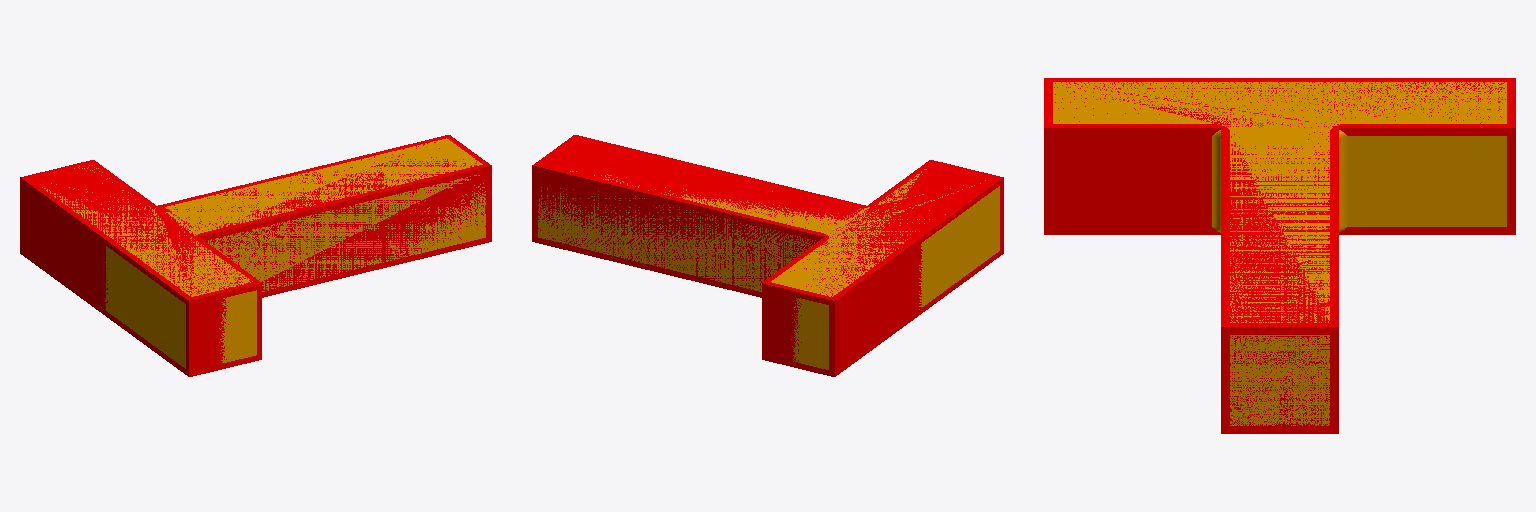
The robot description file, URDF, robot "t_shape":
<?xml version="1.0"?>
<!-- A test file to ensure the obj is at the right scale. -->
<robot name="t_shape">
  <link name="t_obj">
    <visual>
      <geometry>
        <mesh filename="push_t_bicolor.obj"/>
      </geometry>
    </visual>
    <inertial>
        <origin rpy="0 0 0" xyz="-0.05 0 0"/>
        <mass value="1.0"/>
        <inertia ixx="0.001266586" ixy="0" ixz="0" iyy="0.003766426" iyz="0" izz="0.004766362"/>
    </inertial>
    <collision>
      <geometry>
        <mesh filename="push_t_bicolor.obj"/>
      </geometry>
    </collision>
  </link>

  <link name="vertical_link">
    <inertial>
        <origin rpy="0 0 0" xyz="0 0 0"/>
        <mass value="0.5"/>
        <inertia ixx="0.0001333" ixy="0" ixz="0" iyy="0.0011333" iyz="0" izz="0.0011333"/>
    </inertial>
    <visual>
      <geometry>
        <box size="0.16 0.04 0.04"/>
      </geometry>
      <origin rpy="0 0 0" xyz="0 0 0"/>      
      <material>
          <color rgba="1 0 0 1"/>
      </material>
    </visual>
    <collision>
      <geometry>
        <box size="0.16 0.04 0.04"/>
      </geometry>
      <origin rpy="0 0 0" xyz="0 0 0"/>
    </collision>
  </link>

  <link name="horizontal_link">
    <inertial>
        <origin rpy="0 0 1.5708" xyz="-0.1 0 0"/>
        <mass value="0.5"/>
        <inertia ixx="0.0001333" ixy="0" ixz="0" iyy="0.0011333" iyz="0" izz="0.0011333"/>
    </inertial>
    <visual>
      <geometry>
        <box size="0.16 0.04 0.04"/>
      </geometry>
      <origin rpy="0 0 1.5708" xyz="-0.1 0 0"/>      
      <material>
          <color rgba="1 0 0 1"/>
      </material>
    </visual>
    <collision>
      <geometry>
        <box size="0.16 0.04 0.04"/>
      </geometry>
      <origin rpy="0 0 1.5708" xyz="-0.1 0 0"/>
    </collision>
  </link>

  <joint name="fixed_joint_vt" type="fixed">
    <parent link="horizontal_link"/>
    <child link="vertical_link"/>
    <origin xyz="0 0 0" rpy="0 0 0"/>
  </joint>

  <joint name="fixed_joint_obj_v" type="fixed">
    <parent link="t_obj"/>
    <child link="horizontal_link"/>
    <origin xyz="0 0 0" rpy="0 0 0"/>
  </joint>
</robot>

--- What the picture shows (computed from the rendered views, not written in the file) ---
Views: 3 orthographic renders of the robot side by side, from view 1: azimuth 30°, elevation 25°; view 2: azimuth 150°, elevation 25°; view 3: azimuth 270°, elevation 25°.
Model t_shape with 3 links and 2 joints (2 fixed), rooted at t_obj, posed all joints at 0.
Links seen in each view (by area): view 1: t_obj, horizontal_link, vertical_link; view 2: vertical_link, t_obj, horizontal_link; view 3: t_obj, horizontal_link, vertical_link.
Link boxes in pixels (x1=…): t_obj: x1=42, y1=138, x2=485, y2=368; horizontal_link: x1=20, y1=160, x2=261, y2=376; vertical_link: x1=158, y1=135, x2=491, y2=297; vertical_link: x1=532, y1=135, x2=865, y2=297; t_obj: x1=538, y1=169, x2=999, y2=369; horizontal_link: x1=762, y1=160, x2=1003, y2=376; t_obj: x1=1053, y1=82, x2=1506, y2=425; horizontal_link: x1=1044, y1=78, x2=1515, y2=234; vertical_link: x1=1221, y1=128, x2=1338, y2=433.
Size in the robot's own frame: 0.2 by 0.16 by 0.04 metres.
Meshes: 1 distinct files referenced, 1 mesh visuals loaded (1 OBJ).